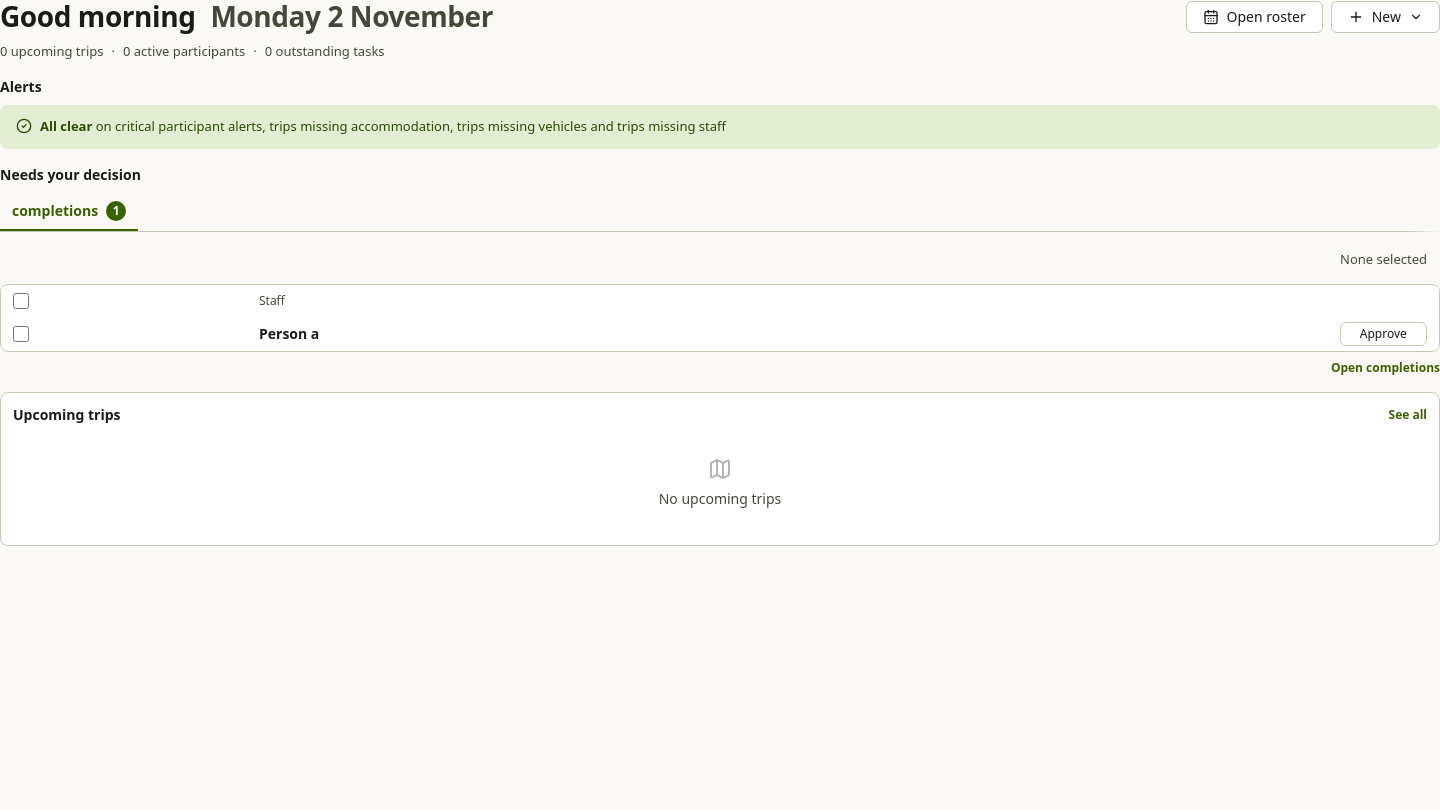
Scenario: retains recovery when a notice is dismissed at the first uncertain badge commit
The width and height of the screenshot is (1440, 810).
Click the checkbox named "Select all shown shift completions". click: point(21, 301)
box: [13,293,29,309]
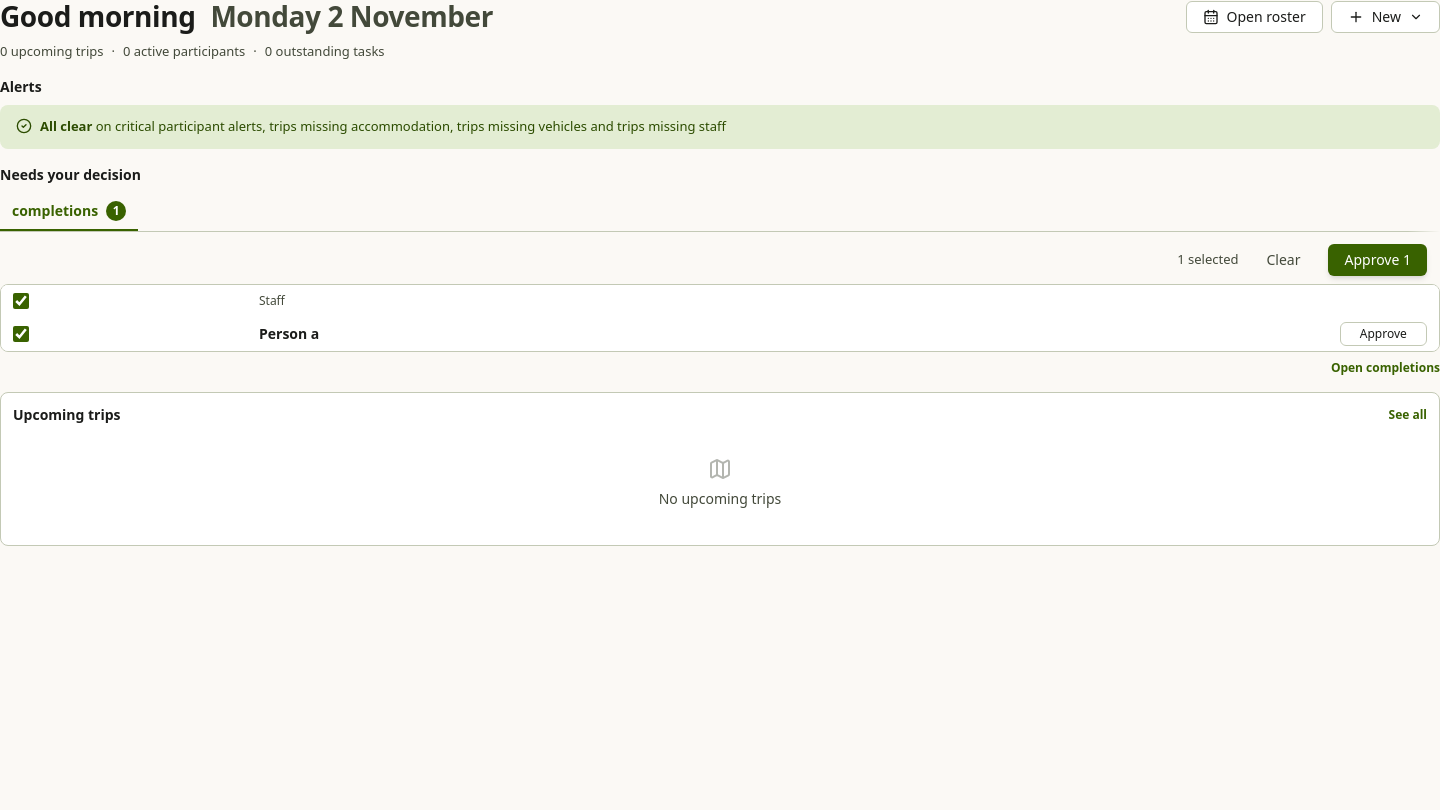
Click the button with aria-label "Approve 1 selected shift completion". click: point(1378, 260)
box: [1328,244,1427,276]
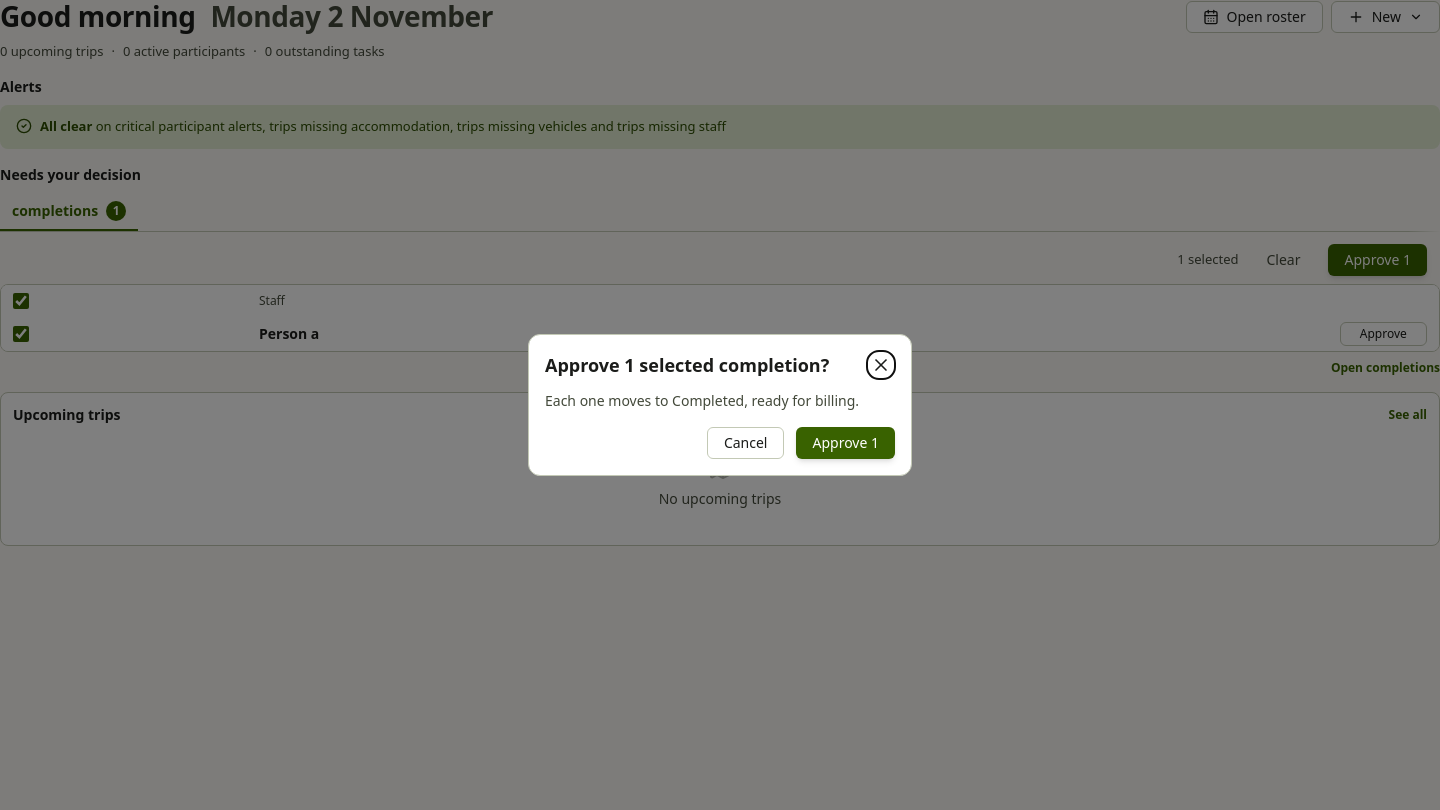
Click the button "Approve 1". click: point(846, 443)
box: [796,427,895,459]
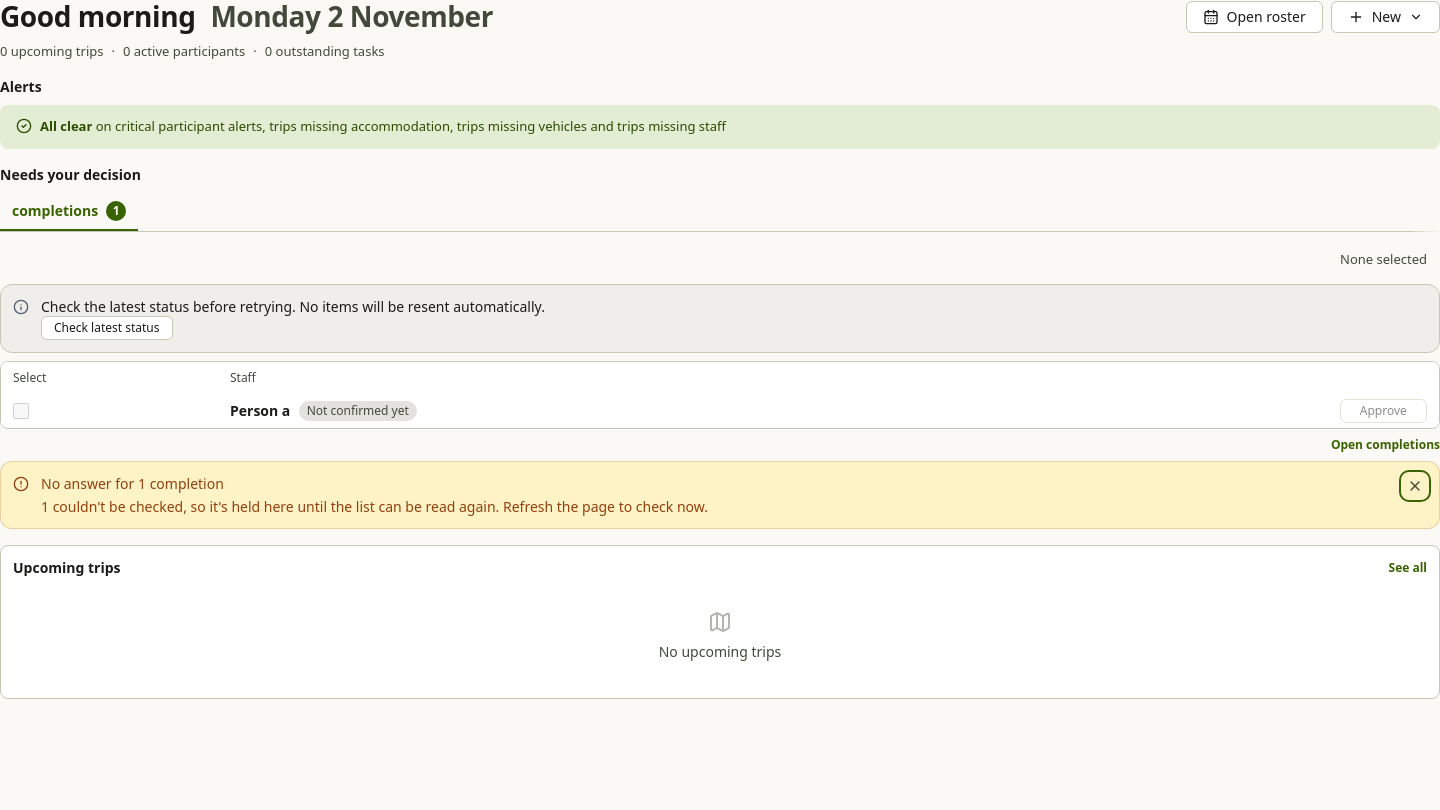
Click the button named "Dismiss notice". click: point(1415, 486)
box: [1403,474,1427,498]
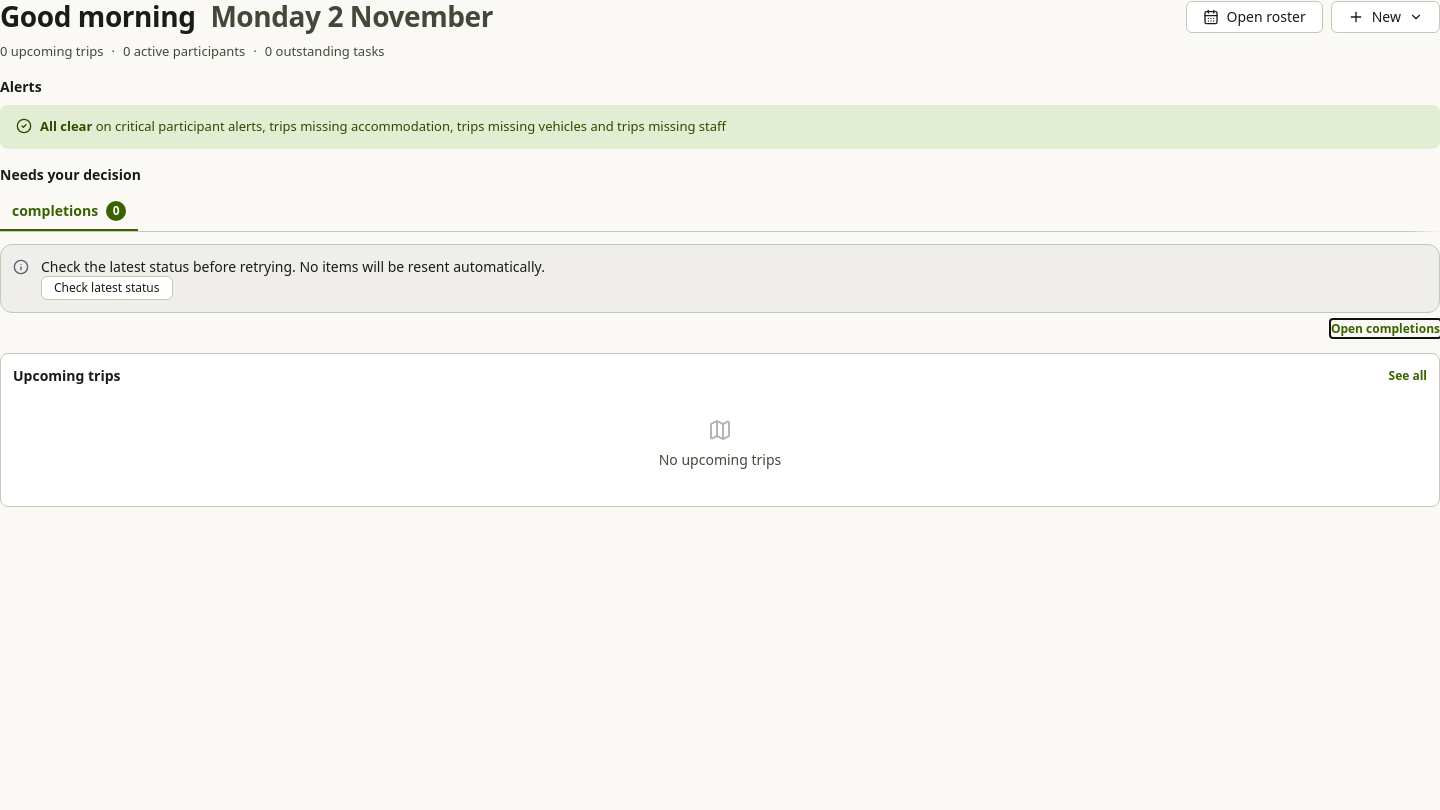
Now the button "Check latest status" is shown
Click the button "Check latest status". click: point(107, 288)
box: [41,276,172,300]
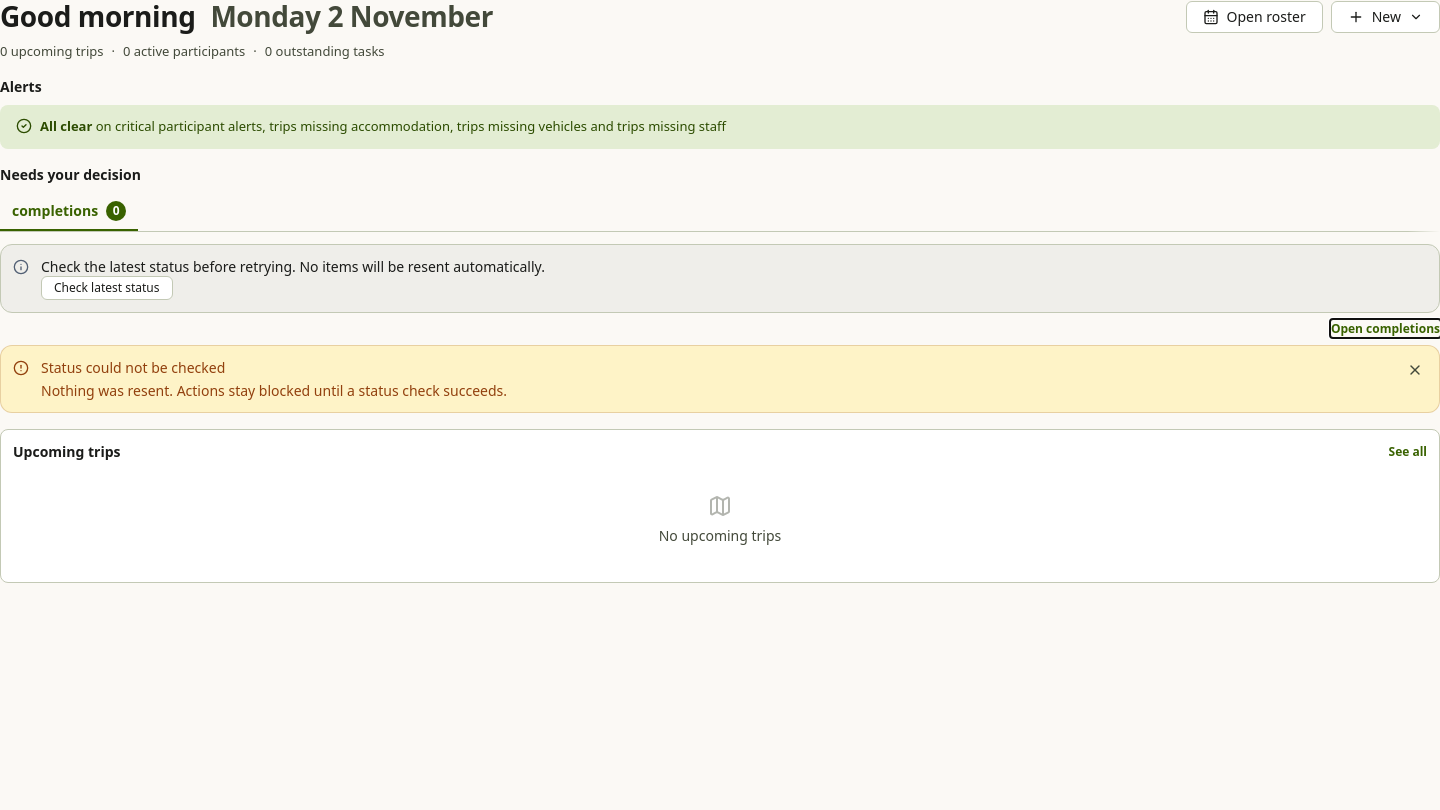
Now the button "Check latest status" is shown
Now the text "Status could not be checked" is shown, box [41,358,225,377]
Click the button "Check latest status". click: point(107, 288)
box: [41,276,172,300]
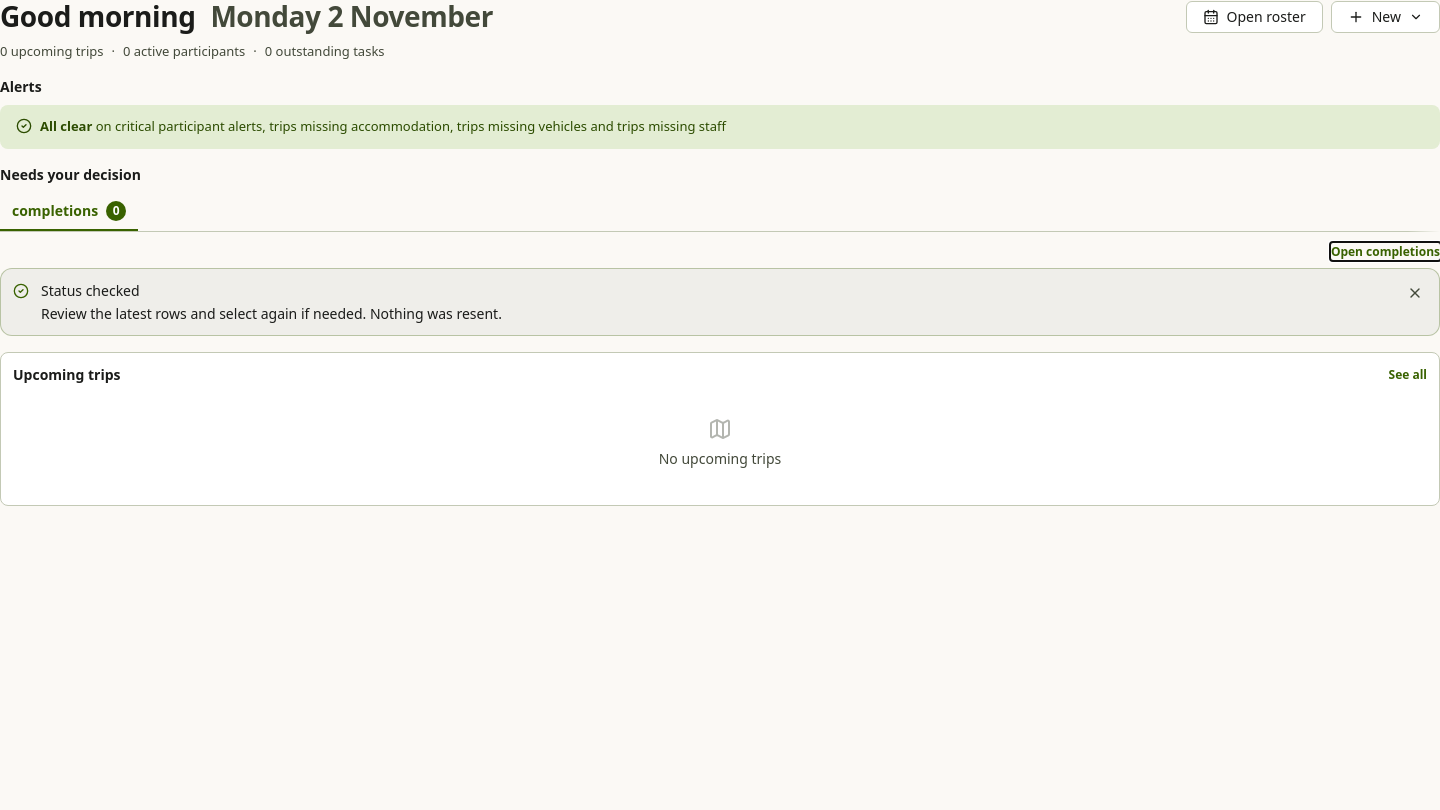
Now the text "Status checked" is shown, box [41,281,140,300]
